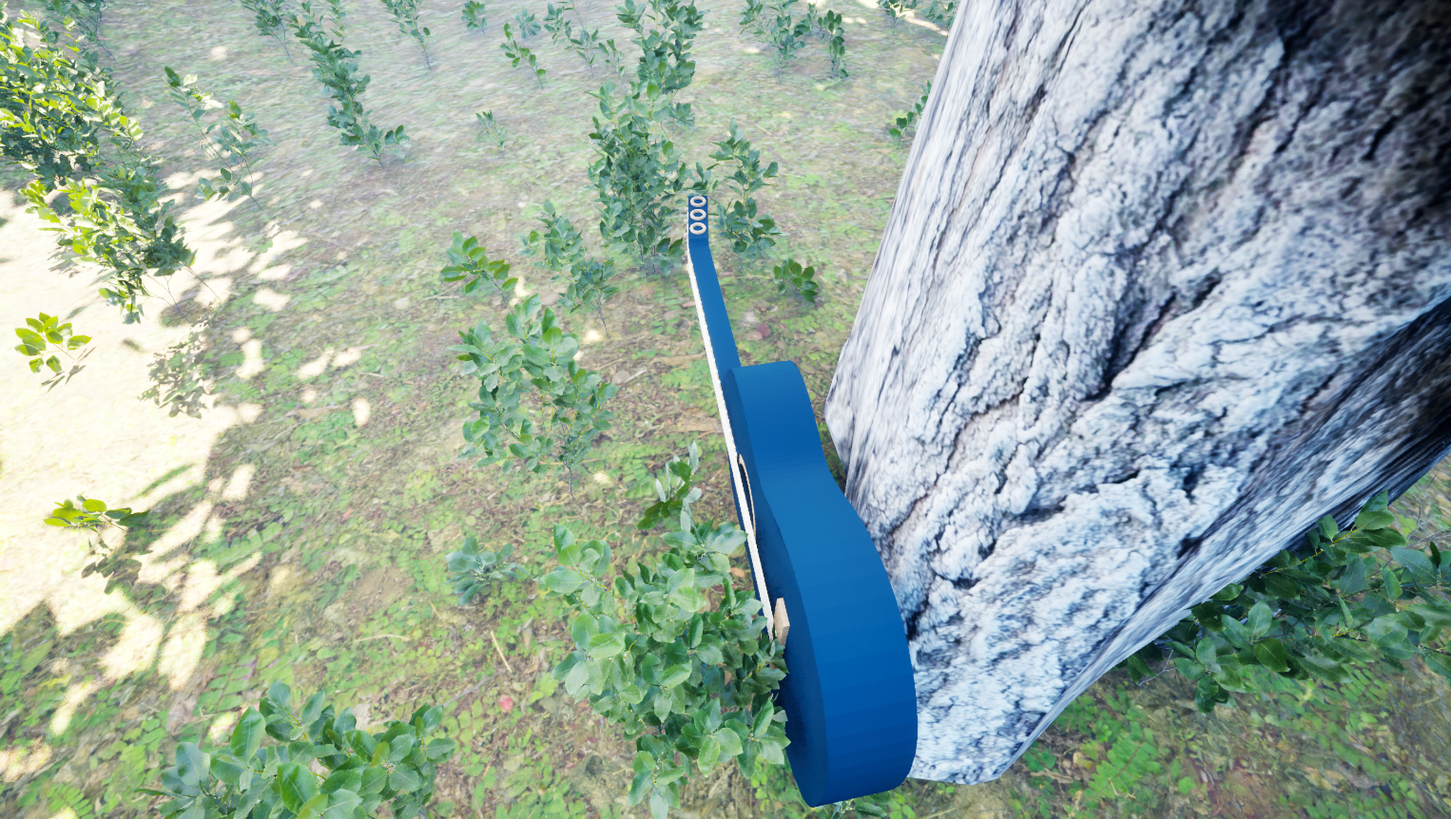Guitar: (669, 109, 953, 819)
